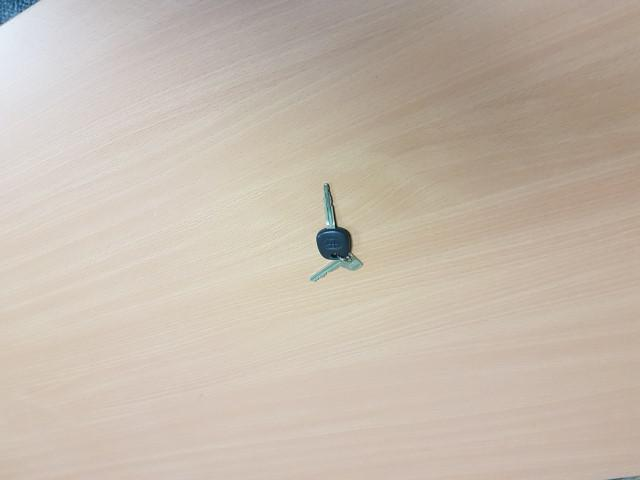key: (313, 179, 353, 262)
